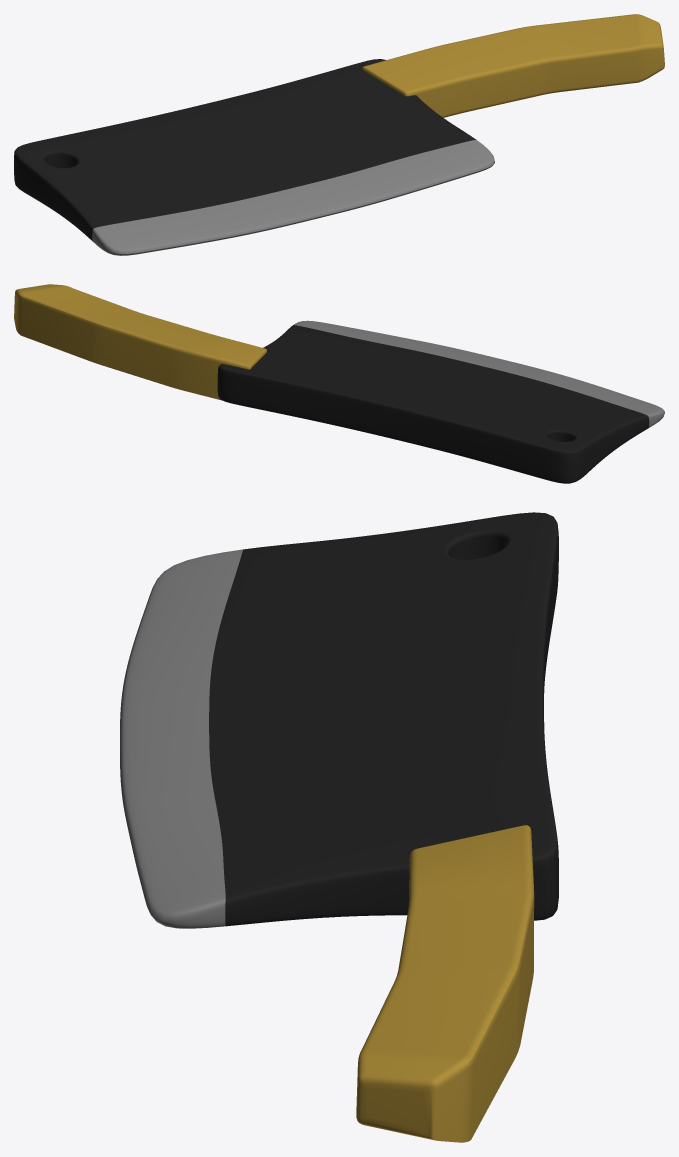
Rendered from Knife.fbx.
3 renders of one model, top to bottom at view 1: azimuth 30°, elevation 25°; view 2: azimuth 150°, elevation 25°; view 3: azimuth 270°, elevation 25°, orthographic. The views are drawn at different scales.
Visible parts, largest first — view 1: Blade, Handle; view 2: Blade, Handle; view 3: Blade, Handle.
Part boxes in pixels (bbox=[...]): Blade: bbox=[14, 59, 494, 255]; Handle: bbox=[362, 14, 664, 117]; Blade: bbox=[217, 320, 664, 483]; Handle: bbox=[14, 284, 266, 400]; Blade: bbox=[120, 512, 558, 928]; Handle: bbox=[356, 825, 534, 1142].
Bounding box in the file's own units: 319 × 22.71 × 103.
